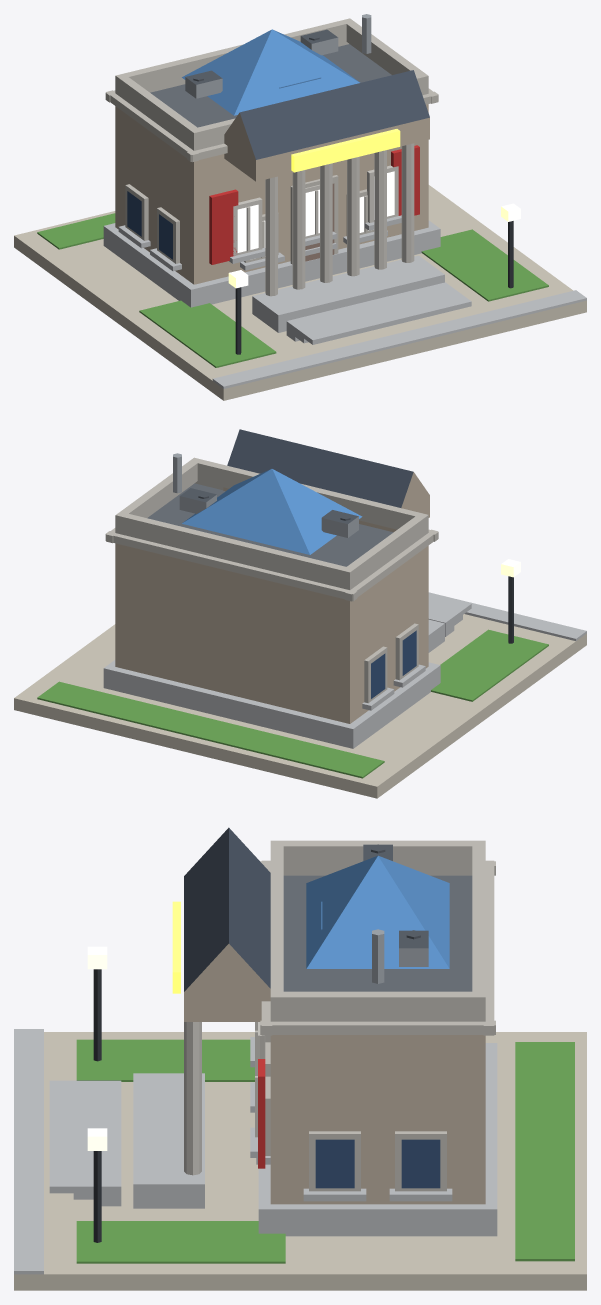
3 renders of one model, top to bottom at view 1: azimuth 30°, elevation 25°; view 2: azimuth 150°, elevation 25°; view 3: azimuth 270°, elevation 25°, orthographic. The views are drawn at different scales.
Parts seen in each view (by area): view 1: b25_v2; view 2: b25_v2; view 3: b25_v2.
Part boxes in pixels (box(x1,y1,x2,y2)): b25_v2: box(14, 14, 586, 400); b25_v2: box(14, 429, 586, 798); b25_v2: box(14, 827, 586, 1290).
Size of the model in its own units: 0.96 by 0.58 by 0.96.
